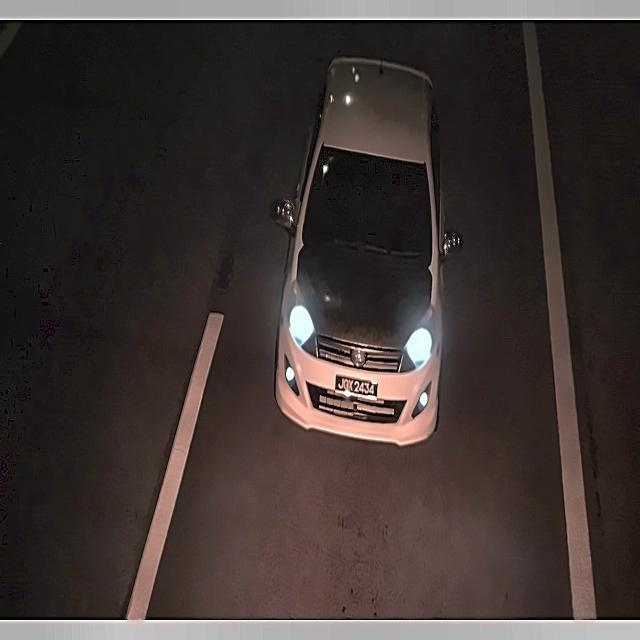car: (331, 373, 383, 407)
